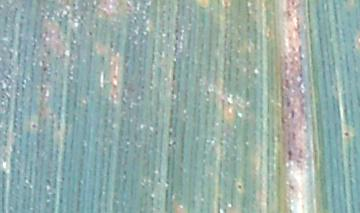tarspot: (286, 146, 292, 161), (342, 130, 351, 138), (290, 108, 295, 120), (30, 122, 37, 130), (87, 30, 94, 37), (236, 183, 243, 190), (289, 1, 296, 7), (19, 14, 25, 20), (42, 66, 47, 71)
